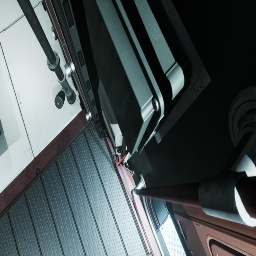SafetySwitchPanel ,: (97, 70, 131, 167)
